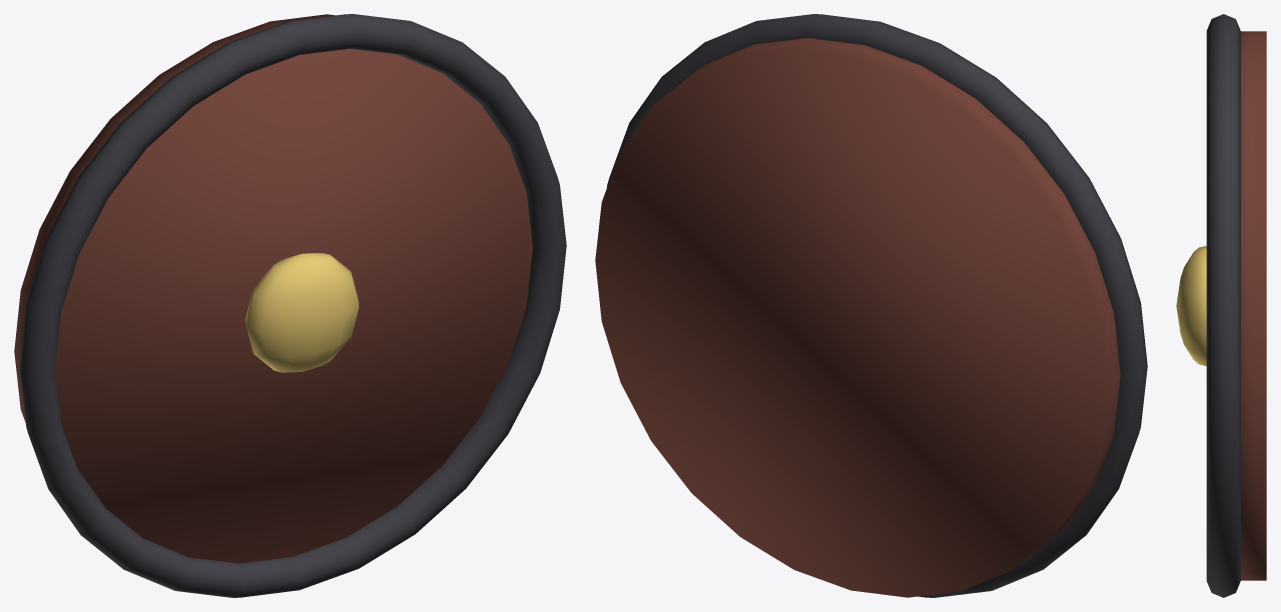
The model's file is wall_gear_shield_round.glb.
The picture shows the model from 3 angles, left to right: view 1: azimuth 30°, elevation 25°; view 2: azimuth 150°, elevation 25°; view 3: azimuth 270°, elevation 25°; orthographic projection. The views are drawn at different scales.
Parts seen in each view (by area): view 1: GD_wall_gear_shield_round__m0, GD_wall_gear_shield_round__m1, GD_wall_gear_shield_round__m2; view 2: GD_wall_gear_shield_round__m0, GD_wall_gear_shield_round__m1; view 3: GD_wall_gear_shield_round__m1, GD_wall_gear_shield_round__m0, GD_wall_gear_shield_round__m2.
Boxes of the visible parts, left/top/right/bottom form: GD_wall_gear_shield_round__m0: left=14, top=14, right=532, bottom=563; GD_wall_gear_shield_round__m1: left=19, top=14, right=566, bottom=597; GD_wall_gear_shield_round__m2: left=245, top=253, right=359, bottom=372; GD_wall_gear_shield_round__m0: left=595, top=38, right=1120, bottom=597; GD_wall_gear_shield_round__m1: left=607, top=14, right=1147, bottom=597; GD_wall_gear_shield_round__m1: left=1206, top=14, right=1240, bottom=597; GD_wall_gear_shield_round__m0: left=1241, top=31, right=1266, bottom=580; GD_wall_gear_shield_round__m2: left=1176, top=246, right=1206, bottom=365.
Bounding box in the file's own units: 0.68 × 0.68 × 0.1052.
